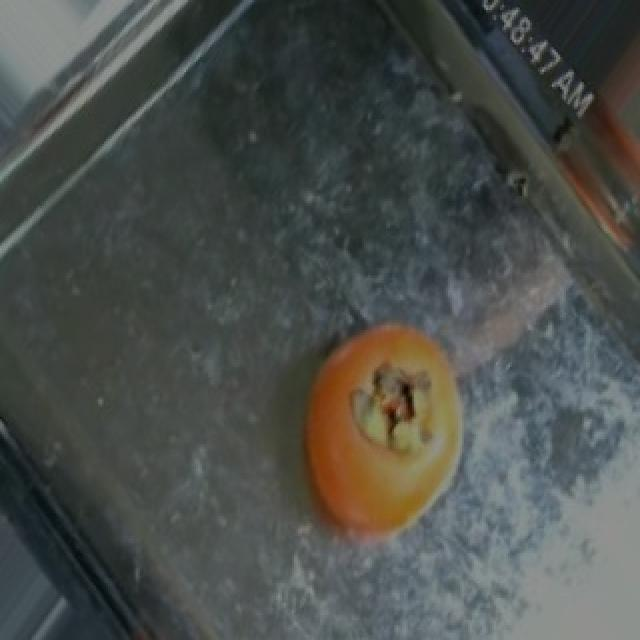Fruit: (284, 305, 490, 578)
